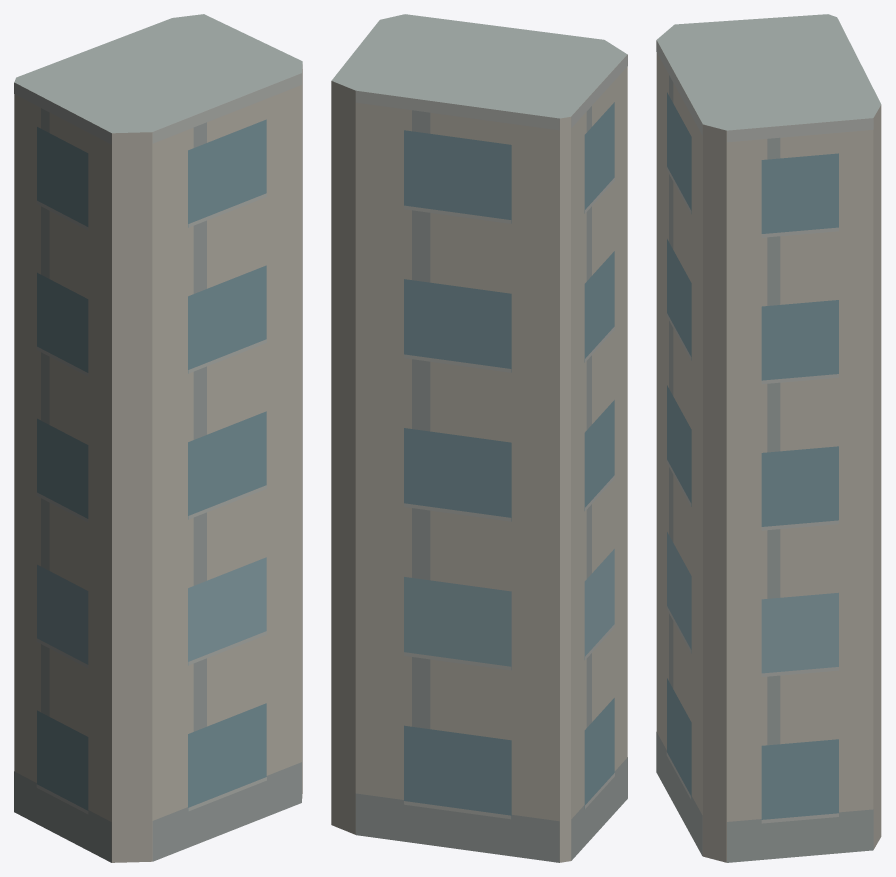
The model's file is survey-upis-32820208.glb.
3 renders of one model, left to right at view 1: azimuth 30°, elevation 25°; view 2: azimuth 150°, elevation 25°; view 3: azimuth 270°, elevation 25°, orthographic. The views are drawn at different scales.
Parts seen in each view (by area): view 1: survey-upis-32820208.tmp; view 2: survey-upis-32820208.tmp; view 3: survey-upis-32820208.tmp.
Part boxes in pixels (x1=…): survey-upis-32820208.tmp: x1=14, y1=14, x2=302, y2=862; survey-upis-32820208.tmp: x1=331, y1=14, x2=627, y2=862; survey-upis-32820208.tmp: x1=656, y1=14, x2=881, y2=862.
Size of the model in its own units: 5.22 by 15.25 by 4.26.
